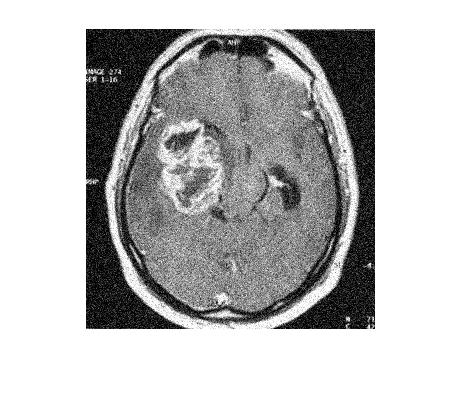Brain_Cancer: (158, 119, 221, 213)
